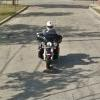Motorcycle: (28, 25, 71, 70)
